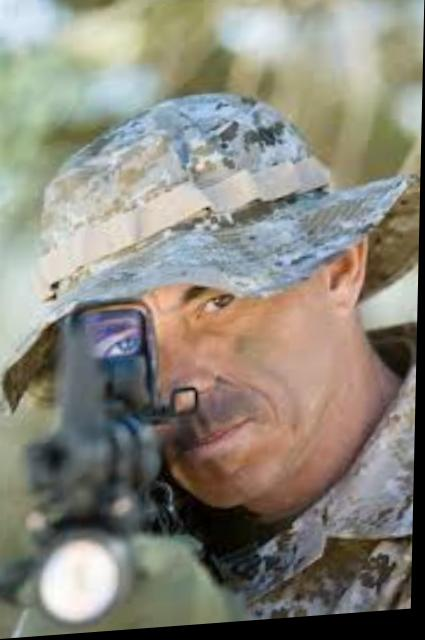other: (0, 85, 422, 632)
